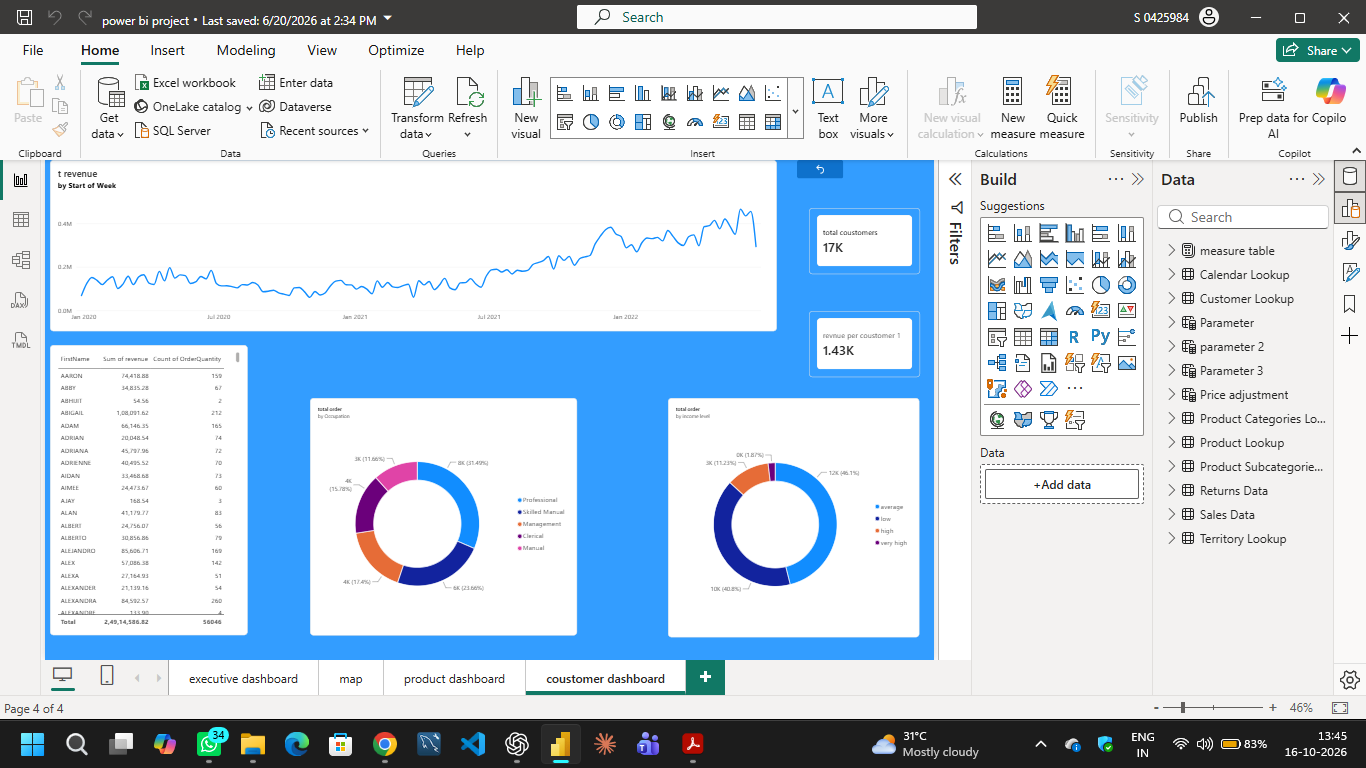

This screenshot's page, from the dashboard's own definition file:
{"tool":"powerbi","page":{"name":"coustomer dashboard","canvas":[1920,1080],"ordinal":3},"visuals":[{"type":"lineChart","fields":{"Category":["Calendar Lookup.Start of Week"],"Y":["measure table.t revenue"]},"box":[10,0,1570,370],"z":0},{"type":"tableEx","fields":{"Values":["Customer Lookup.FirstName","Sum(Sales Data.revenue)","CountNonNull(Sales Data.OrderQuantity)"]},"box":[10,400,426.7,626.7],"z":1000},{"type":"cardVisual","fields":{"Data":["measure table.total coustomers"]},"box":[1650,103.3,240,143.3],"z":2000},{"type":"cardVisual","fields":{"Data":["measure table.revnue per coustomer 1"]},"box":[1650,326.7,240,143.3],"z":3000},{"type":"donutChart","fields":{"Category":["Customer Lookup.Occupation"],"Y":["measure table.total order"]},"box":[573.3,513.3,576.7,513.3],"z":4000},{"type":"donutChart","fields":{"Category":["Customer Lookup.income level"],"Y":["measure table.total order"]},"box":[1346.7,513.3,543.3,516.7],"z":5000},{"type":"actionButton","box":[1625,0,100,40],"z":6001}]}

Visuals, with their boxes on the page's 1920x1080 design canvas (x1, y1, x2, y2). These are canvas units, not pixel positions in the 1366x768 screenshot, which may show the page scaled, cropped or inside an application window:
lineChart - Calendar Lookup.Start of Week x measure table.t revenue: [left=10, top=0, right=1580, bottom=370]
tableEx - Customer Lookup.FirstName x Sum(Sales Data.revenue): [left=10, top=400, right=437, bottom=1027]
cardVisual - measure table.total coustomers: [left=1650, top=103, right=1890, bottom=247]
cardVisual - measure table.revnue per coustomer 1: [left=1650, top=327, right=1890, bottom=470]
donutChart - Customer Lookup.Occupation x measure table.total order: [left=573, top=513, right=1150, bottom=1027]
donutChart - Customer Lookup.income level x measure table.total order: [left=1347, top=513, right=1890, bottom=1030]
actionButton: [left=1625, top=0, right=1725, bottom=40]
